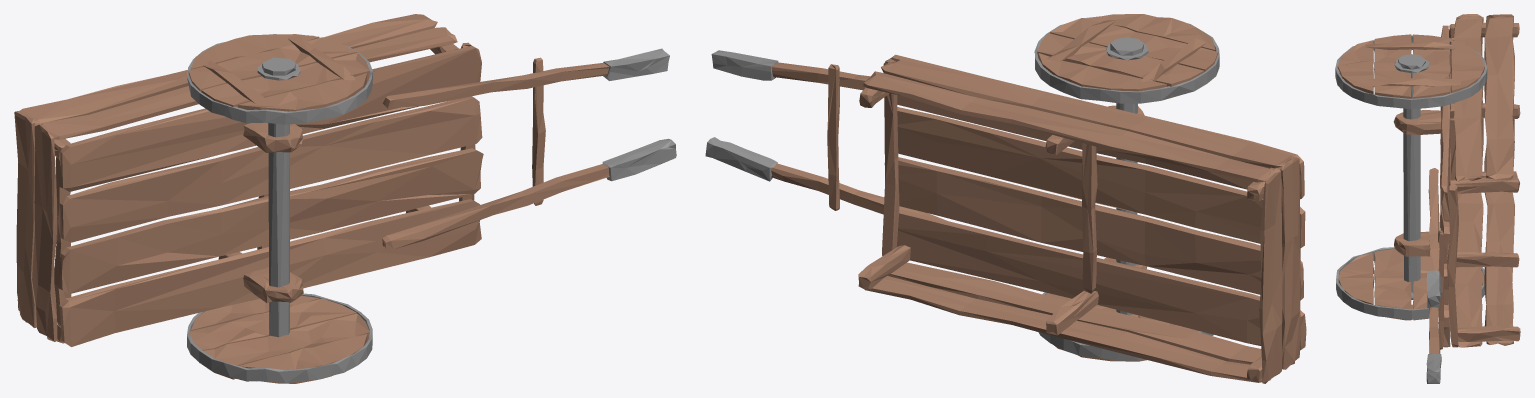
File: cart.FBX
3 views of the same model, side by side, from view 1: azimuth 30°, elevation 25°; view 2: azimuth 150°, elevation 25°; view 3: azimuth 270°, elevation 25° (orthographic). The views are drawn at different scales.
Visible parts, largest first — view 1: carriage; view 2: carriage; view 3: carriage.
Boxes of the visible parts, x1=… form: carriage: x1=14, y1=14, x2=676, y2=383; carriage: x1=705, y1=14, x2=1306, y2=383; carriage: x1=1335, y1=14, x2=1520, y2=383.
Size of the model in its own units: 254 by 115 by 82.
